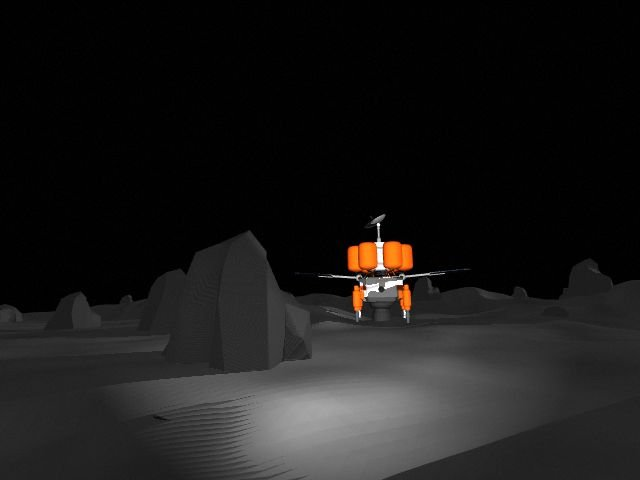homebase: (298, 210, 470, 326)
